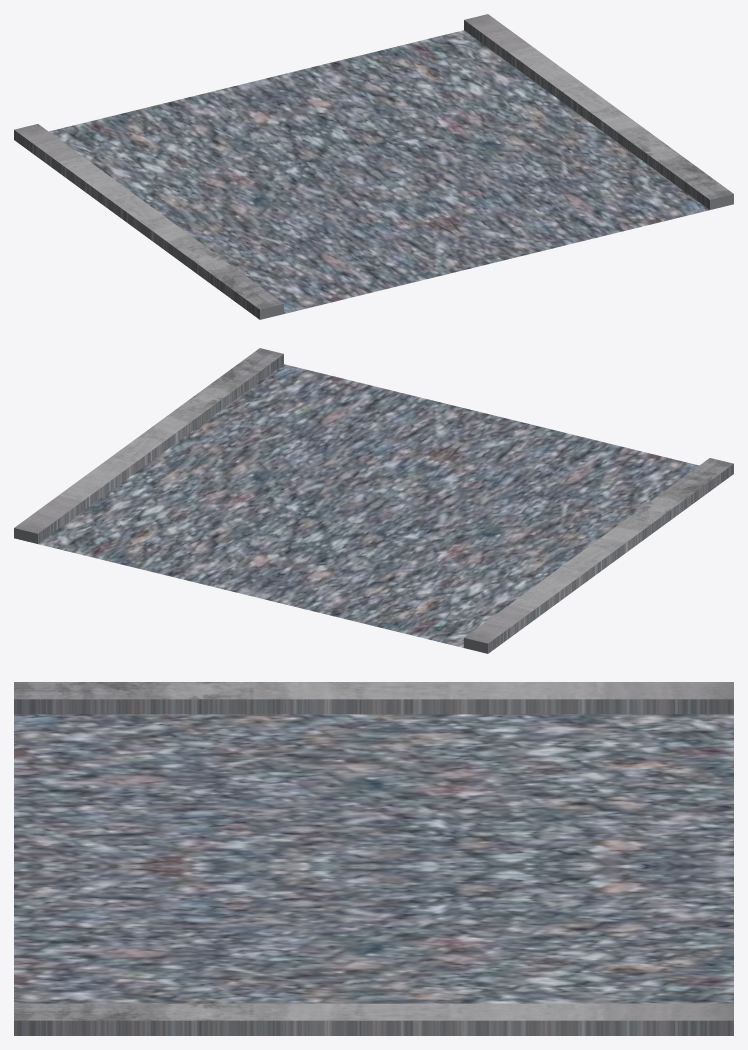
The model's file is rua.fbx.
The picture shows the model from 3 angles, top to bottom: view 1: azimuth 30°, elevation 25°; view 2: azimuth 150°, elevation 25°; view 3: azimuth 270°, elevation 25°; orthographic projection. The views are drawn at different scales.
Parts seen in each view (by area): view 1: Plane; view 2: Plane; view 3: Plane.
Part boxes in pixels (<box>): Plane: <box>14,14,733,319</box>; Plane: <box>14,348,733,653</box>; Plane: <box>14,682,733,1035</box>.
Bounding box in the file's own units: 223 × 4.61 × 200.
